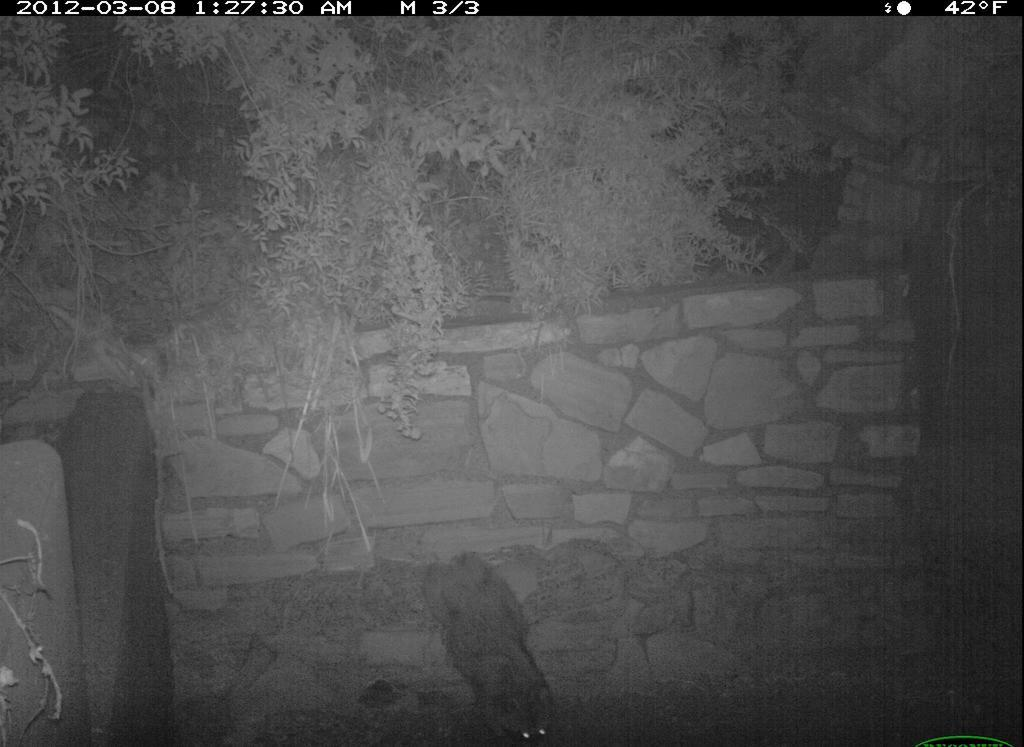raccoon: (418, 551, 584, 747)
